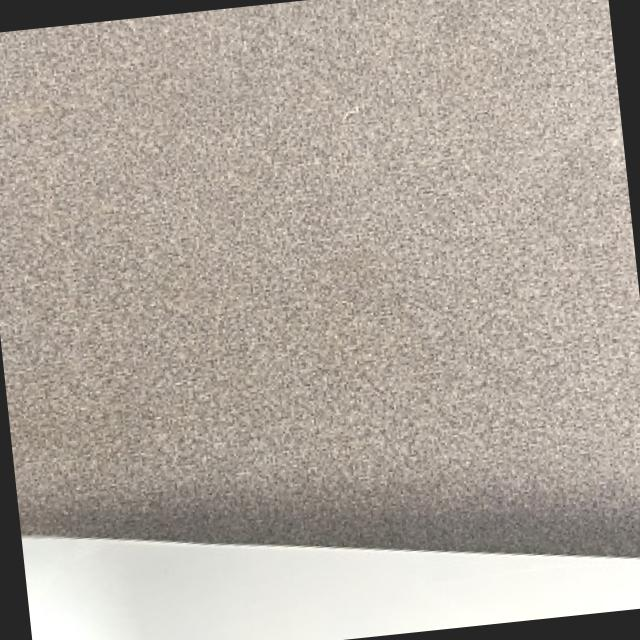healthy: (0, 0, 640, 553), (25, 535, 640, 640)
